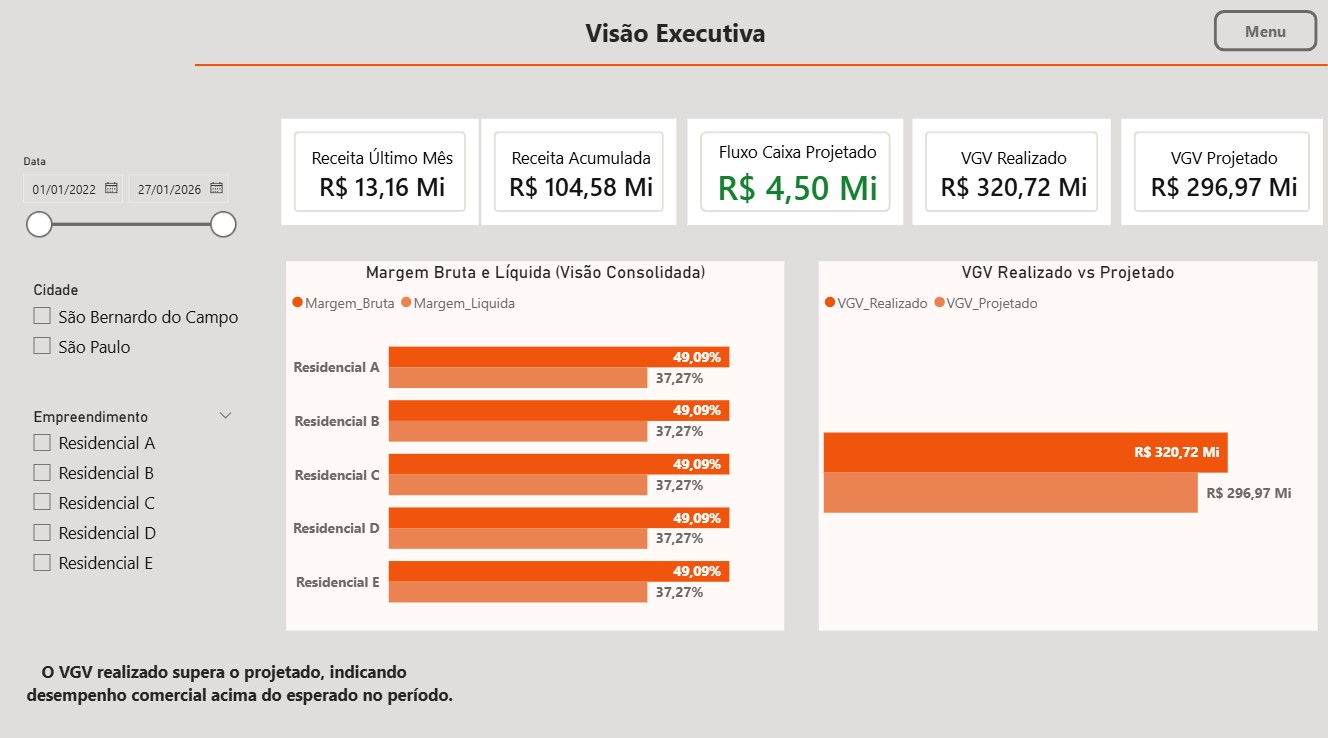

Layout of this report page (visuals, bound fields, positions):
{"tool":"powerbi","page":{"name":"Visão Executiva","canvas":[1280,720],"ordinal":1},"visuals":[{"type":"cardVisual","title":"Receita último Mês","fields":{"Data":["Medidas.Receita_Ultimo_Mes"]},"box":[266.1,109.3,200.5,112.1],"z":0},{"type":"clusteredBarChart","title":"Margem Bruta e Líquida (Visão Consolidada)","fields":{"Category":["empreendimentos.nome"],"Y":["Medidas.Margem_Bruta","Medidas.Margem_Liquida"]},"box":[276.3,252.1,480.2,355.9],"z":1000},{"type":"cardVisual","fields":{"Data":["Medidas.VGV_Realizado"]},"box":[874.2,109.3,201.5,112.1],"z":2000},{"type":"cardVisual","fields":{"Data":["Medidas.VGV_Projetado"]},"box":[1075.7,109.3,204.3,112.1],"z":3000},{"type":"slicer","fields":{"Values":["empreendimentos.cidade"]},"box":[19.5,266,217.2,94],"z":4000},{"type":"slicer","fields":{"Values":["empreendimentos.nome"]},"box":[19.5,388.4,217.2,181.8],"z":5000},{"type":"slicer","fields":{"Values":["Calendario.Date"]},"box":[9.8,143.6,227,108.2],"z":6000},{"type":"cardVisual","fields":{"Data":["Medidas.Receita_Acumulada"]},"box":[459,109.3,198.6,112.1],"z":7000},{"type":"cardVisual","fields":{"Data":["Medidas.Fluxo_Caixa_Projetado"]},"box":[657.6,109.3,218.6,112.1],"z":8000},{"type":"clusteredBarChart","title":"VGV Realizado vs Projetado","fields":{"Y":["Medidas.VGV_Realizado","Medidas.VGV_Projetado"]},"box":[788.7,251.8,480.8,356.3],"z":9000},{"type":"shape","box":[188.2,49.4,1091.8,26.6],"z":10000},{"type":"actionButton","box":[1169.6,9.8,100.2,39.9],"z":12000},{"type":"textbox","box":[20,631.9,446.6,55.1],"z":13000},{"type":"textbox","box":[558.8,9.5,197.7,43.7],"z":14000}]}

Visuals, with their boxes in screenshot pixels (x1, y1, x2, y2), scaled from the page's 1280x720 canvas onto the 1328x738 screenshot:
"Receita último Mês" cardVisual: (left=276, top=112, right=484, bottom=227)
"Margem Bruta e Líquida (Visão Consolidada)" clusteredBarChart: (left=287, top=258, right=785, bottom=623)
cardVisual - Medidas.VGV_Realizado: (left=907, top=112, right=1116, bottom=227)
cardVisual - Medidas.VGV_Projetado: (left=1116, top=112, right=1327, bottom=227)
slicer - empreendimentos.cidade: (left=20, top=273, right=246, bottom=369)
slicer - empreendimentos.nome: (left=20, top=398, right=246, bottom=584)
slicer - Calendario.Date: (left=10, top=147, right=246, bottom=258)
cardVisual - Medidas.Receita_Acumulada: (left=476, top=112, right=682, bottom=227)
cardVisual - Medidas.Fluxo_Caixa_Projetado: (left=682, top=112, right=909, bottom=227)
"VGV Realizado vs Projetado" clusteredBarChart: (left=818, top=258, right=1317, bottom=623)
shape: (left=195, top=51, right=1327, bottom=78)
actionButton: (left=1213, top=10, right=1317, bottom=51)
textbox: (left=21, top=648, right=484, bottom=704)
textbox: (left=580, top=10, right=785, bottom=55)
